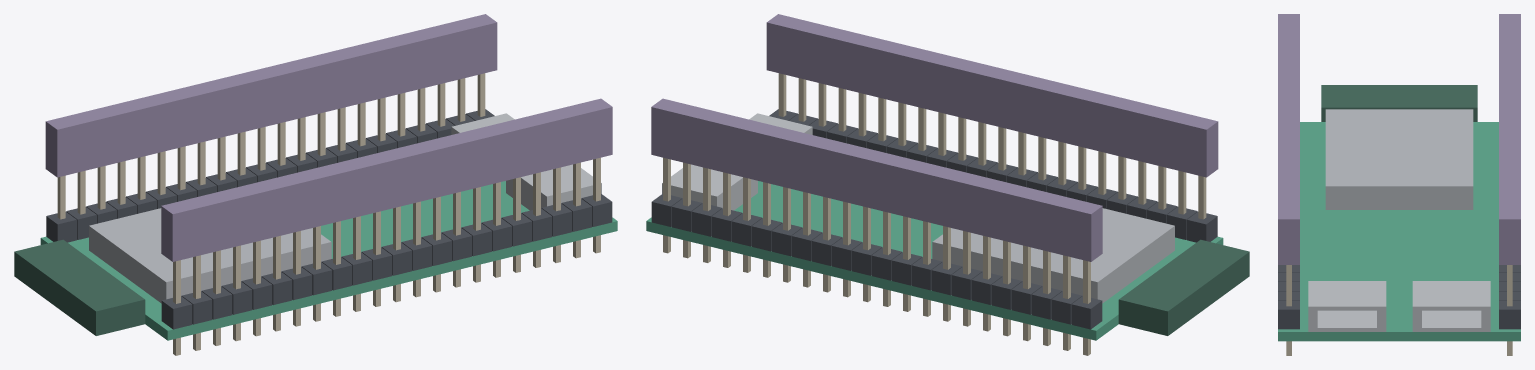
File: esp32_s3_hardware.glb
3 views of the same model, side by side, from view 1: azimuth 30°, elevation 25°; view 2: azimuth 150°, elevation 25°; view 3: azimuth 270°, elevation 25° (orthographic). The views are drawn at different scales.
Visible parts, largest first — view 1: board_plug_space, board_header_plastic, board_pins, board_pcb, board_radio, board_antenna, board_usb; view 2: board_plug_space, board_header_plastic, board_pins, board_pcb, board_radio, board_antenna, board_usb; view 3: board_pcb, board_radio, board_plug_space, board_usb, board_antenna, board_header_plastic, board_pins.
Part boxes in pixels (x1,y1,x2,y2): board_plug_space: [45, 14, 612, 261]; board_header_plastic: [46, 109, 612, 329]; board_pins: [57, 73, 600, 355]; board_pcb: [40, 181, 617, 340]; board_radio: [89, 208, 331, 303]; board_antenna: [14, 239, 145, 335]; board_usb: [451, 113, 601, 210]; board_plug_space: [651, 14, 1218, 261]; board_header_plastic: [651, 109, 1217, 329]; board_pins: [663, 73, 1206, 355]; board_pcb: [646, 181, 1223, 340]; board_radio: [932, 208, 1174, 303]; board_antenna: [1118, 239, 1249, 335]; board_usb: [662, 113, 812, 210]; board_pcb: [1278, 122, 1520, 341]; board_radio: [1325, 109, 1473, 209]; board_plug_space: [1278, 14, 1520, 264]; board_usb: [1308, 281, 1490, 331]; board_antenna: [1321, 85, 1477, 121]; board_header_plastic: [1278, 265, 1520, 329]; board_pins: [1286, 265, 1512, 355].
Size of the model in its own units: 63.39 by 17.8 by 27.94.
